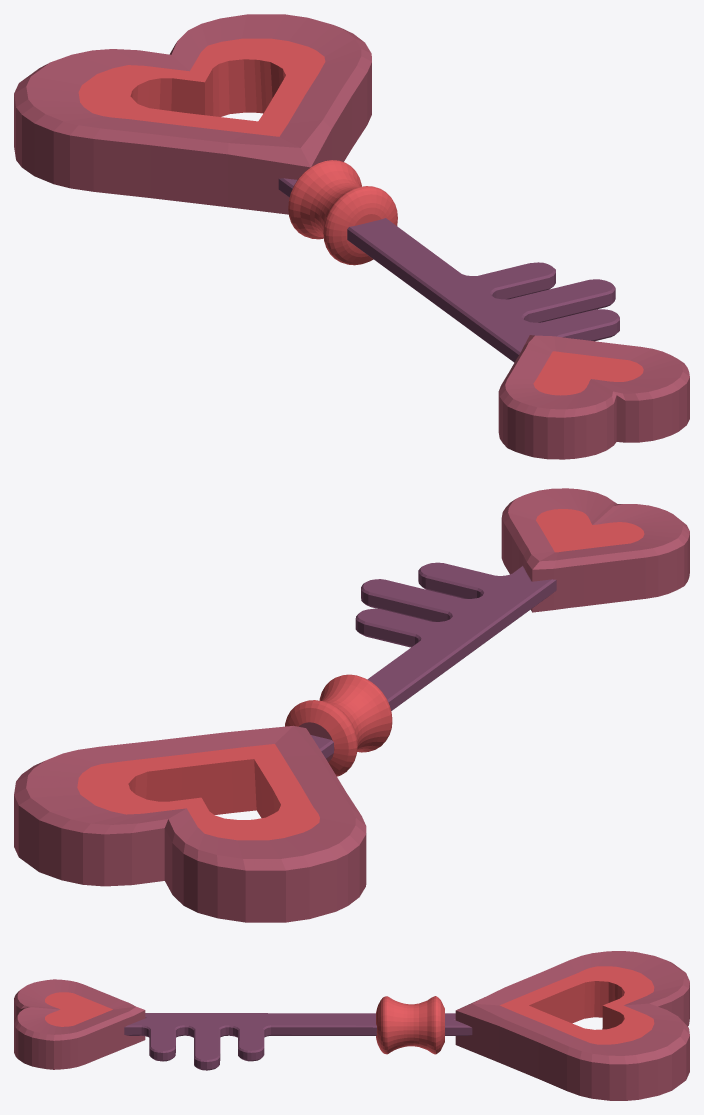
The model's file is HeartKey1.fbx.
The picture shows the model from 3 angles, top to bottom: view 1: azimuth 30°, elevation 25°; view 2: azimuth 150°, elevation 25°; view 3: azimuth 270°, elevation 25°; orthographic projection. The views are drawn at different scales.
Parts seen in each view (by area): view 1: TopHeart.006; view 2: TopHeart.006; view 3: TopHeart.006.
Part boxes in pixels (x1,y1,x2,y2): TopHeart.006: (14,14,689,459); TopHeart.006: (14,488,689,922); TopHeart.006: (14,951,689,1100).
Size of the model in its own units: 124 by 27.42 by 316.
